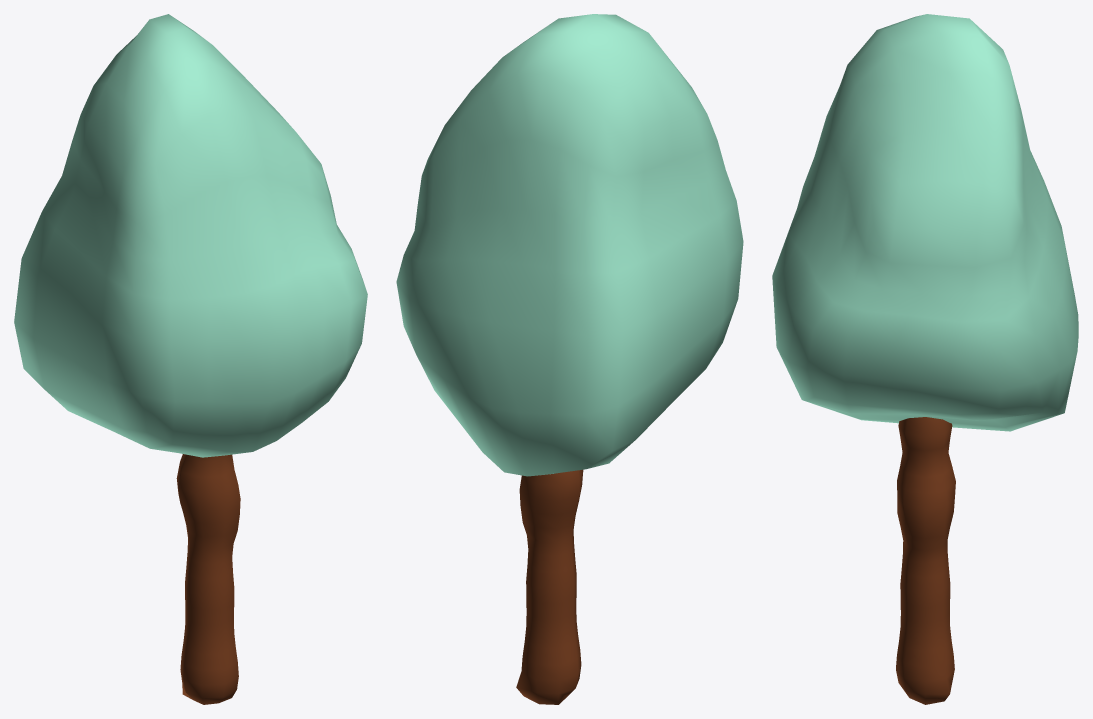
3 views of the same model, side by side, from view 1: azimuth 30°, elevation 25°; view 2: azimuth 150°, elevation 25°; view 3: azimuth 270°, elevation 25° (orthographic). The views are drawn at different scales.
Visible parts, largest first — view 1: BUSH ONE.001, Tree.001; view 2: BUSH ONE.001, Tree.001; view 3: BUSH ONE.001, Tree.001.
Boxes of the visible parts, x1,y1,x2,y2 form: BUSH ONE.001: (14, 14, 367, 457); Tree.001: (176, 454, 240, 704); BUSH ONE.001: (396, 14, 743, 476); Tree.001: (516, 469, 583, 704); BUSH ONE.001: (772, 14, 1078, 431); Tree.001: (896, 417, 955, 704).
Size of the model in its own units: 1230 by 2945 by 1186.
